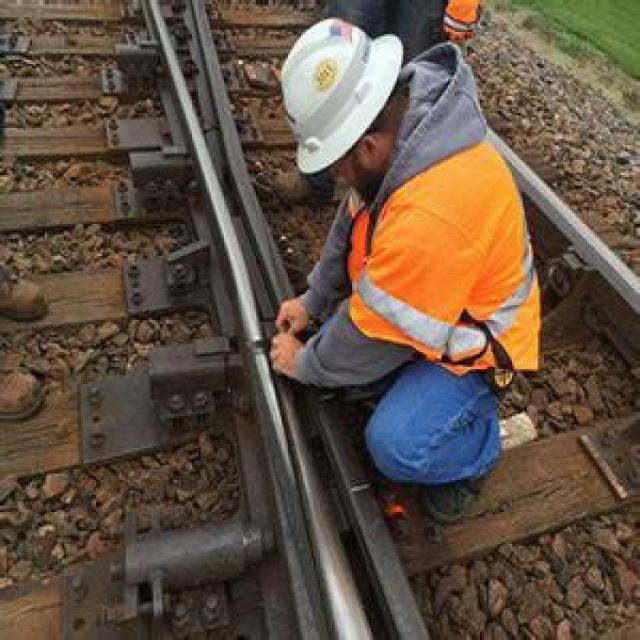danger: (248, 0, 574, 526)
rail: (0, 0, 640, 640)
